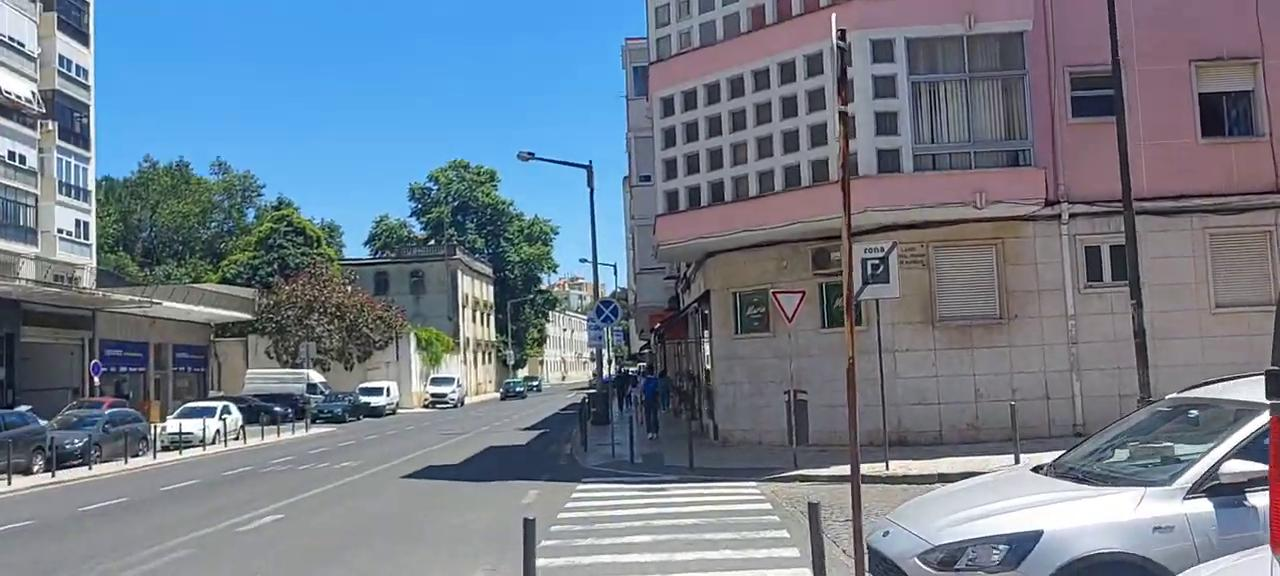cedencia de passagem: (759, 272, 810, 325)
fim de zona de estacionamento autorizado: (852, 236, 904, 299)
